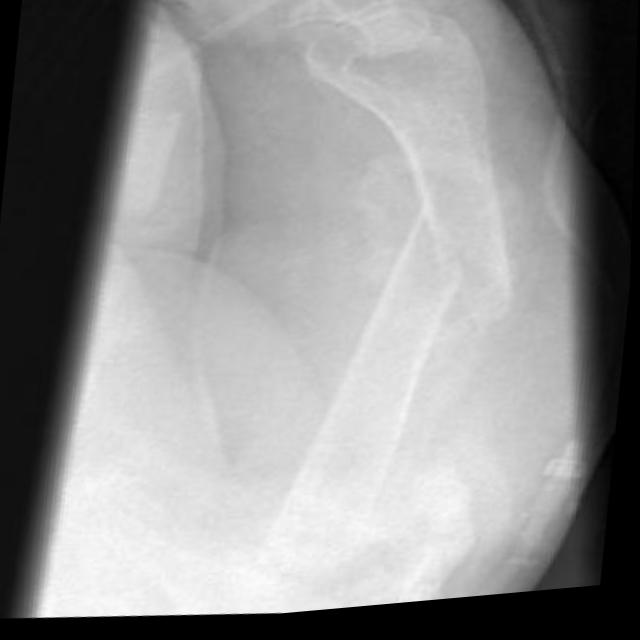fracture: (381, 207, 534, 342)
